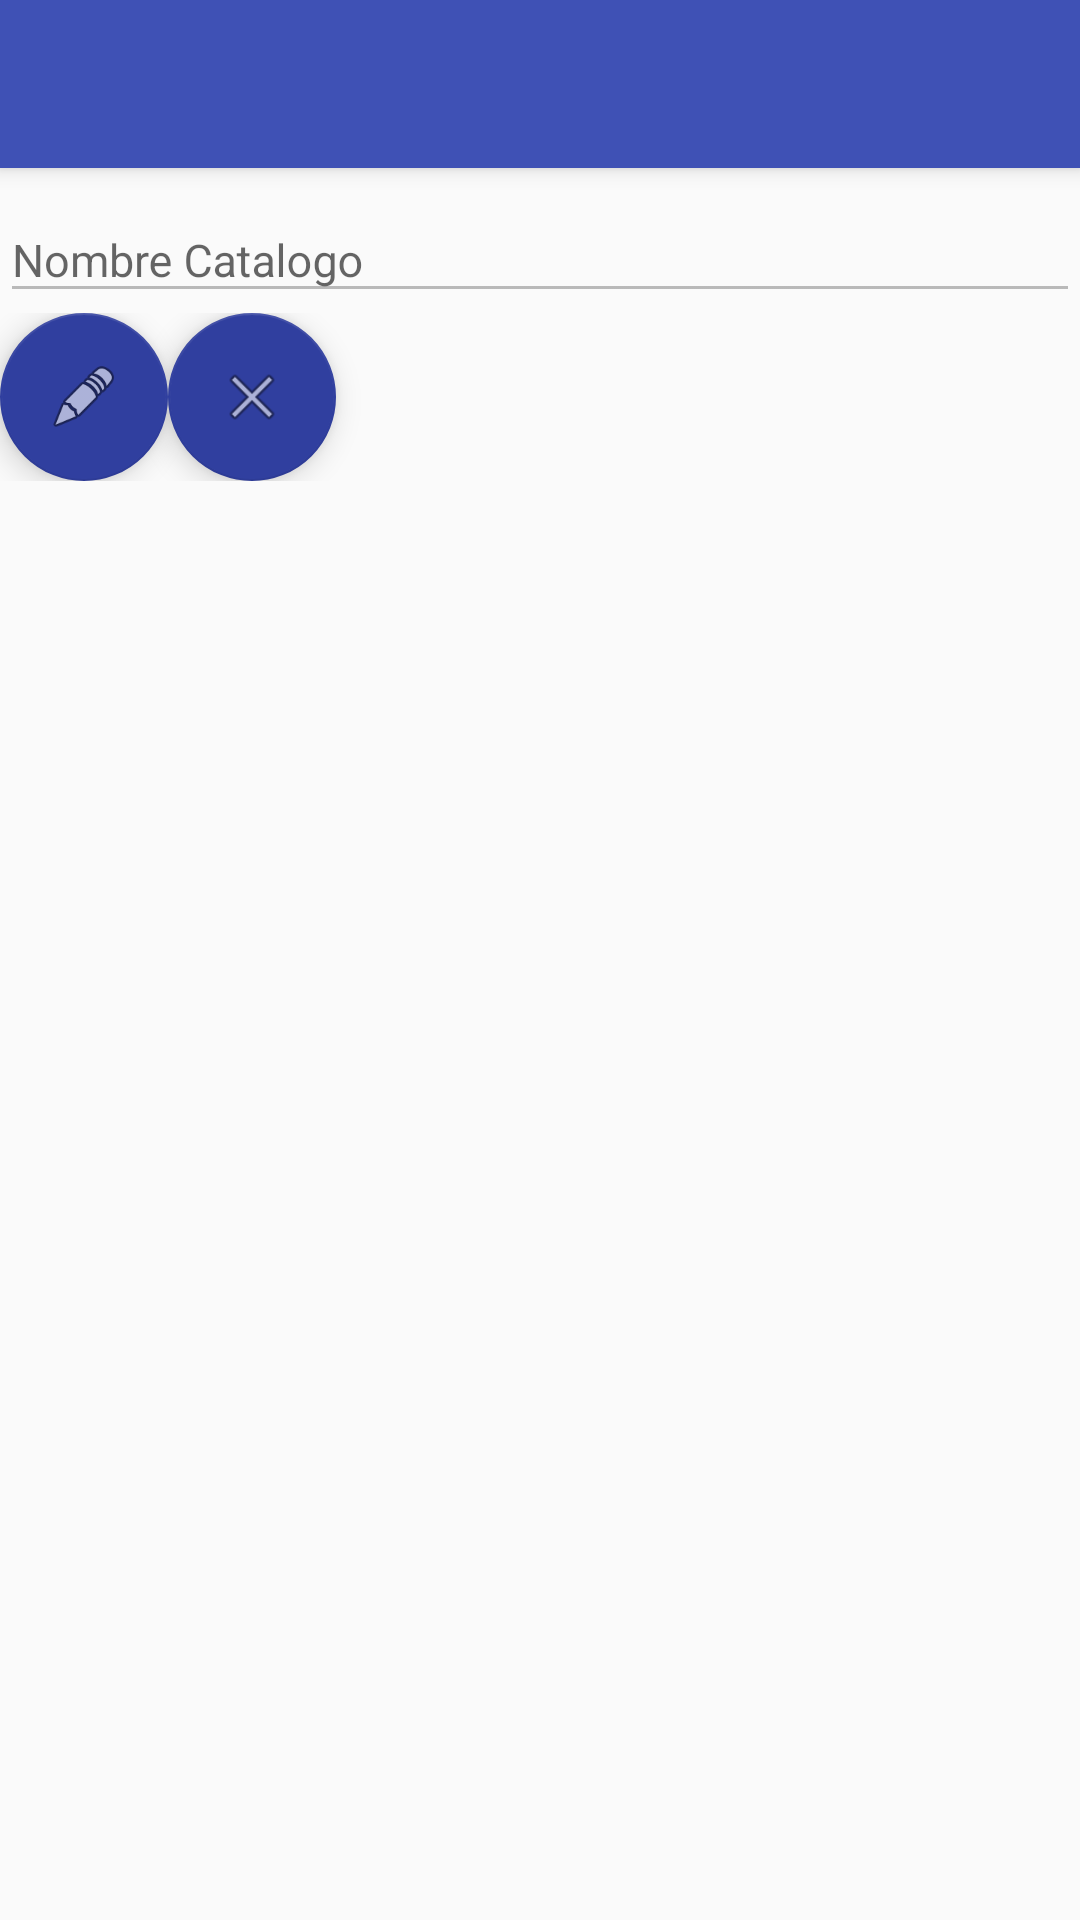

Icons on this 1080w x 1920h Android screen, each with its box as (x1, y1, x2, y2):
close clear cancel: (168, 313, 336, 481)
edit: (0, 313, 168, 481)
